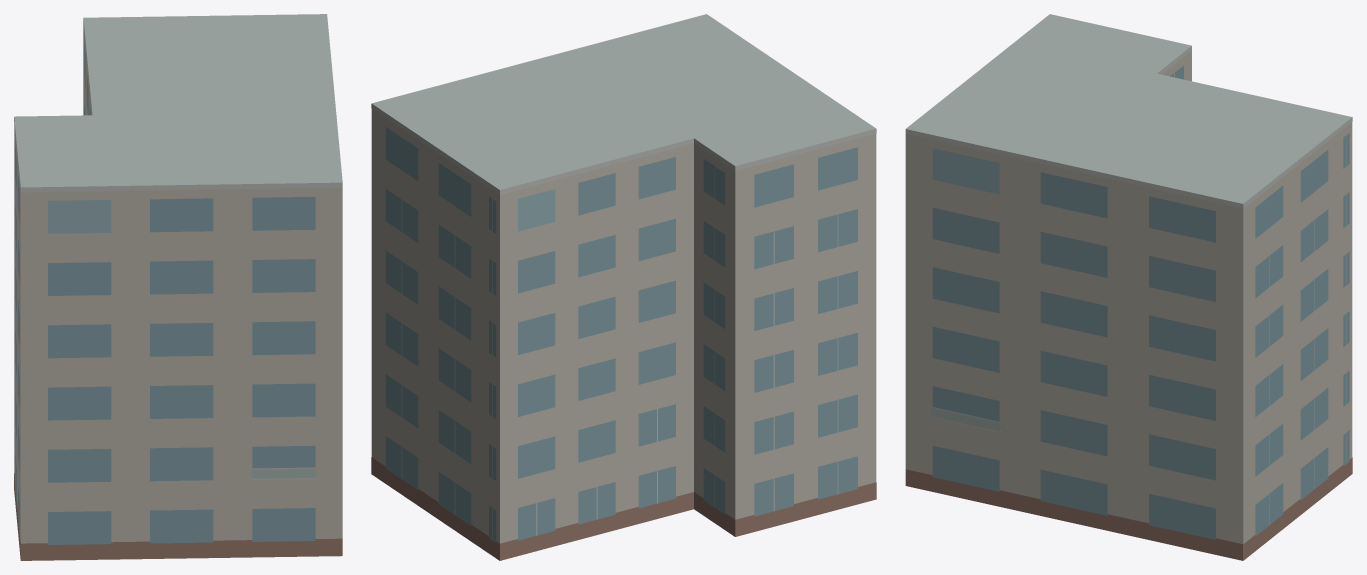
File: survey-upis-33040630.glb
3 renders of one model, left to right at view 1: azimuth 30°, elevation 25°; view 2: azimuth 150°, elevation 25°; view 3: azimuth 270°, elevation 25°, orthographic. The views are drawn at different scales.
Parts seen in each view (by area): view 1: survey-upis-33040630.tmp; view 2: survey-upis-33040630.tmp; view 3: survey-upis-33040630.tmp.
Boxes of the visible parts, box(x1,y1,x2,y2) form: survey-upis-33040630.tmp: box(14, 14, 342, 560); survey-upis-33040630.tmp: box(371, 14, 876, 560); survey-upis-33040630.tmp: box(905, 14, 1352, 560).
Size of the model in its own units: 21.02 by 18.4 by 20.89.
